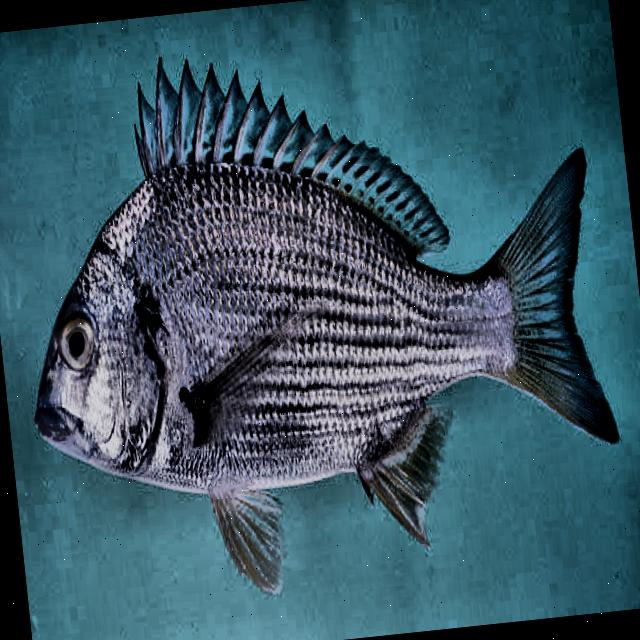fish: (0, 11, 633, 618)
